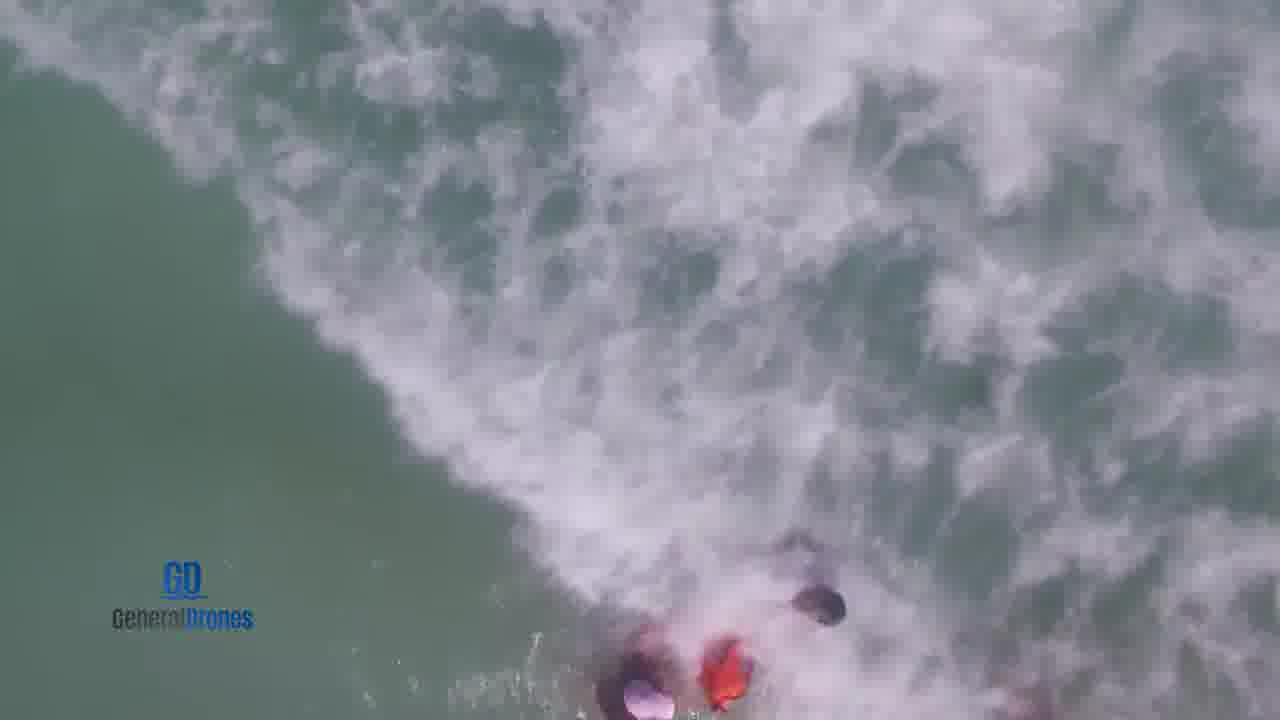swimmer: (577, 605, 696, 720), (773, 567, 863, 637)
